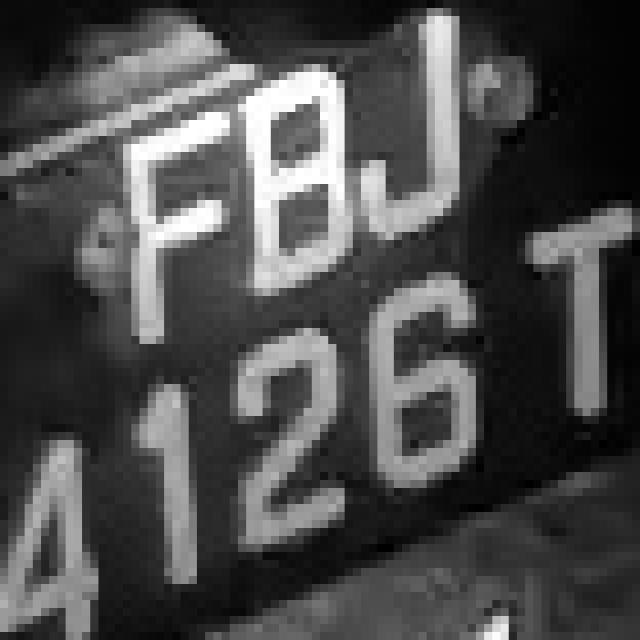1: (115, 336, 213, 624)
2: (213, 320, 353, 560)
4: (0, 5, 1, 8)
6: (353, 256, 484, 504)
B: (222, 40, 361, 296)
F: (90, 88, 230, 344)
J: (361, 0, 492, 240)
T: (517, 184, 632, 432)
